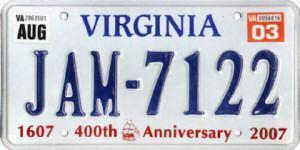placa de veiculo: (5, 3, 300, 148)
